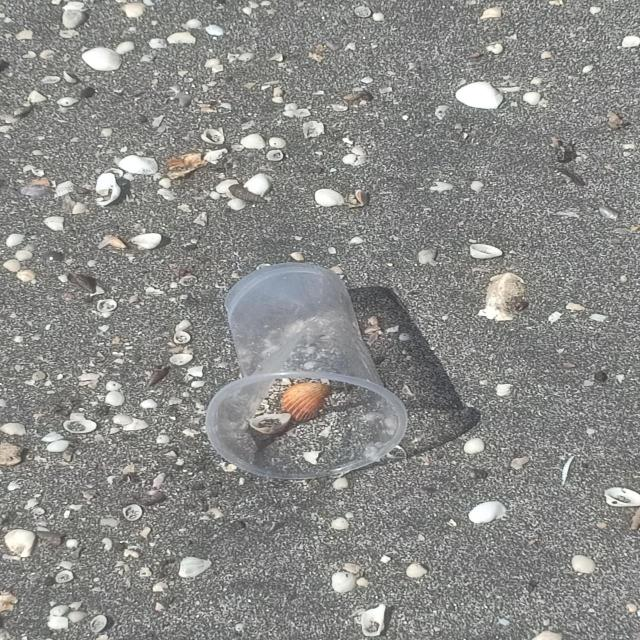plastic_waste: (206, 262, 410, 480)
